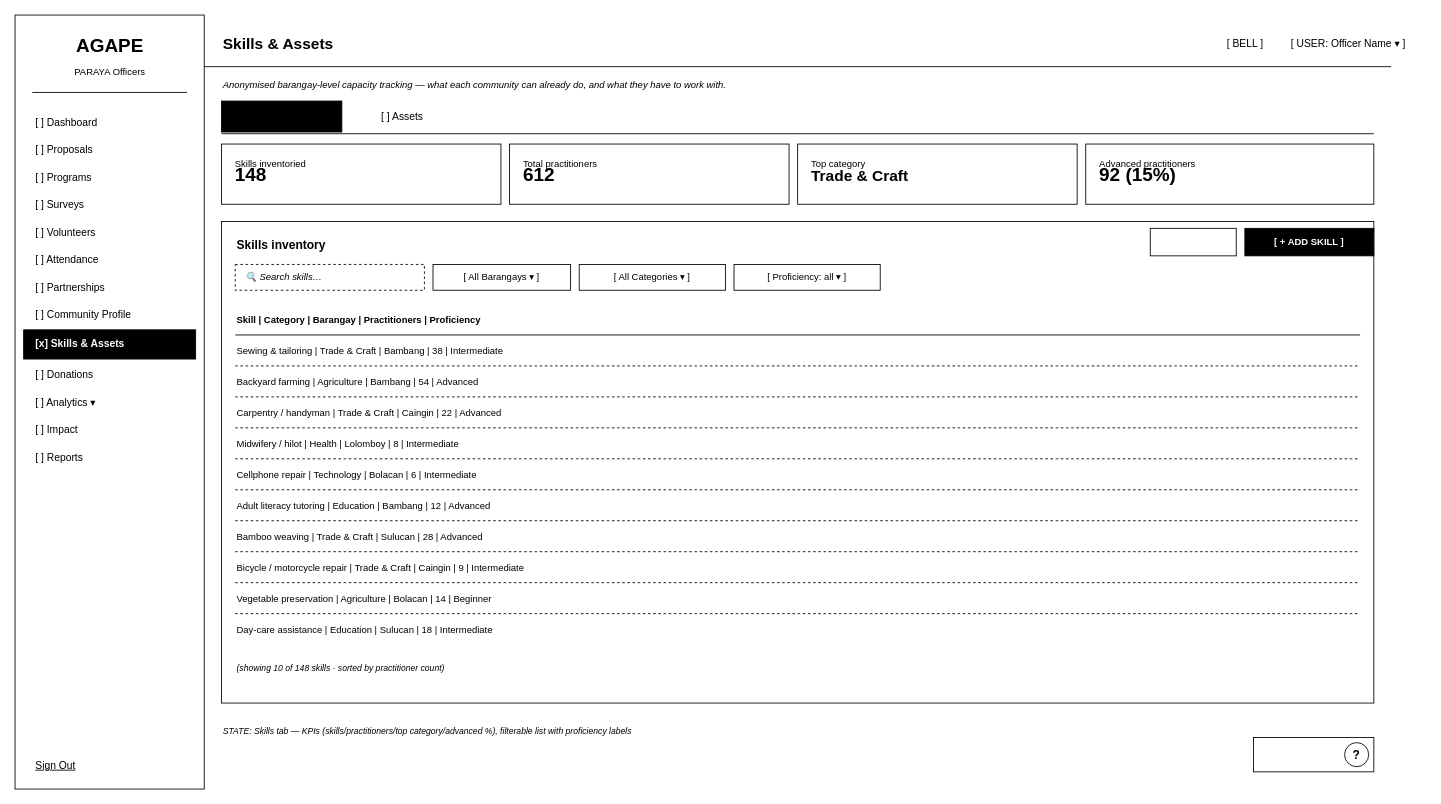
Some shapes in this 1441 by 804 pixel diagram are drawn without their labels. The shapes that lost their labels are listed below. From the top down, each one's box as (x1, y1, x2, y2) in pixels, then its label:
(221, 100, 342, 132): [x] Skills
(1149, 227, 1236, 256): [ EXPORT ]
(1253, 737, 1374, 772): [ AI CHATBOT ]
